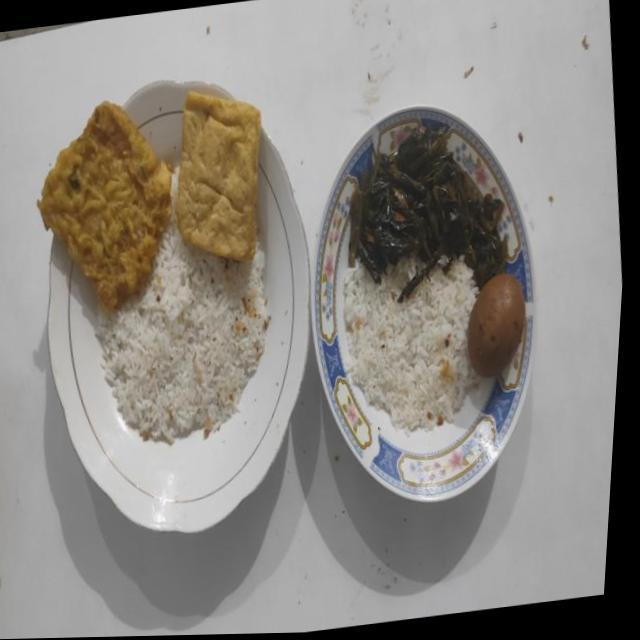nasi_putih: (96, 166, 270, 444), (344, 253, 479, 434)
tahu_goreng: (176, 91, 261, 260)
tumis_kangkung: (349, 124, 507, 302)
